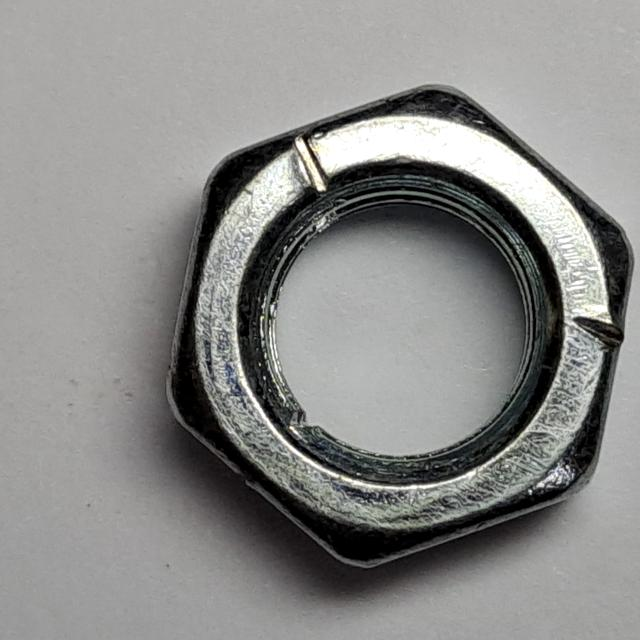Scratches: (153, 72, 640, 586)
